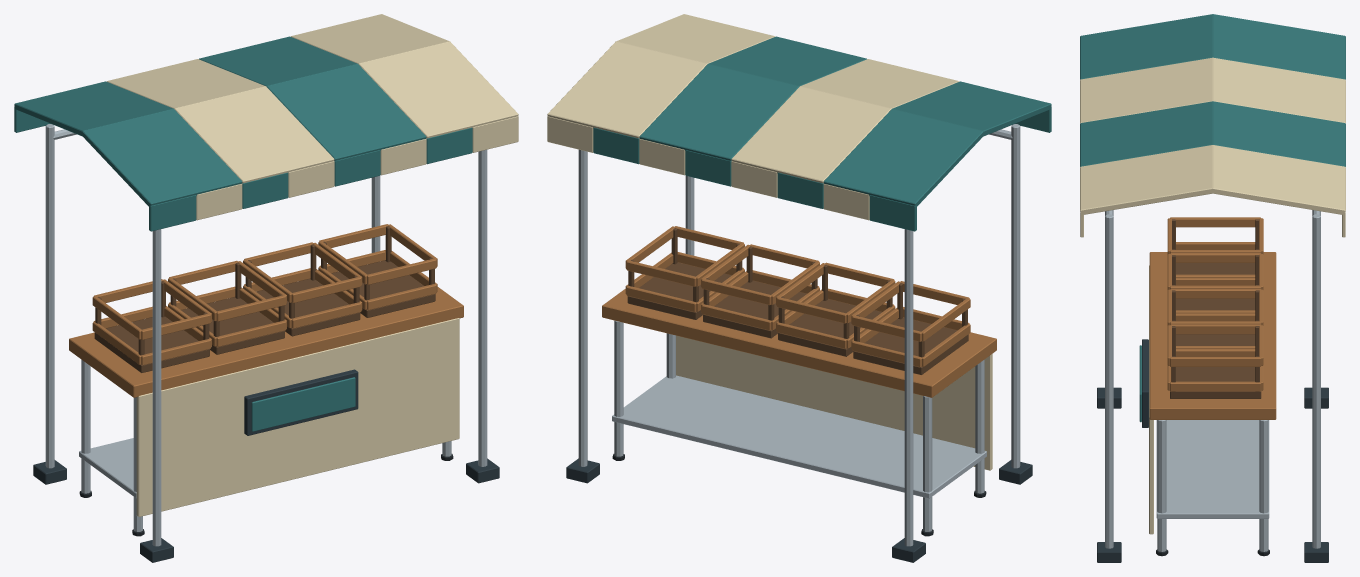
Rendered from b10_farmers_market_canvas_stall.glb.
3 views of the same model, side by side, from view 1: azimuth 30°, elevation 25°; view 2: azimuth 150°, elevation 25°; view 3: azimuth 270°, elevation 25° (orthographic). The views are drawn at different scales.
Visible parts, largest first — view 1: b10_farmers_market_canvas_stall; view 2: b10_farmers_market_canvas_stall; view 3: b10_farmers_market_canvas_stall.
Boxes of the visible parts, <box> form: b10_farmers_market_canvas_stall: <box>14,14,518,562</box>; b10_farmers_market_canvas_stall: <box>547,14,1051,562</box>; b10_farmers_market_canvas_stall: <box>1080,14,1345,562</box>.
Bounding box in the file's own units: 2.35 × 2.39 × 1.51.
